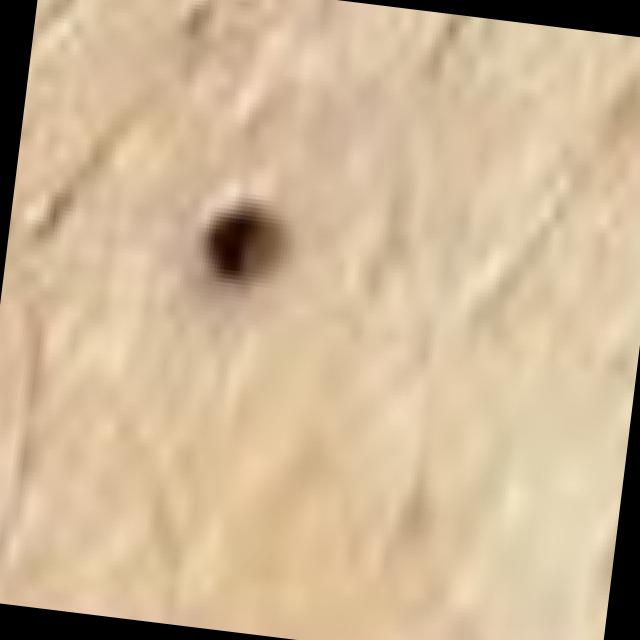blackhead: (209, 214, 278, 284)
